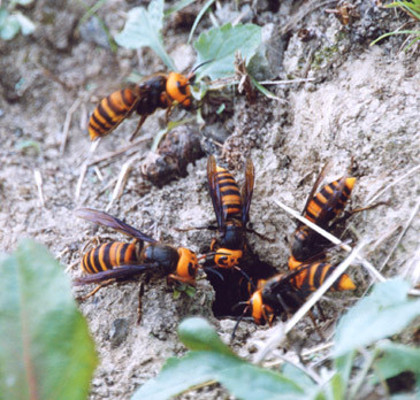asian_giant_hornet: (70, 204, 212, 323), (273, 159, 376, 278), (74, 61, 217, 138), (227, 255, 366, 334), (187, 146, 267, 275)
